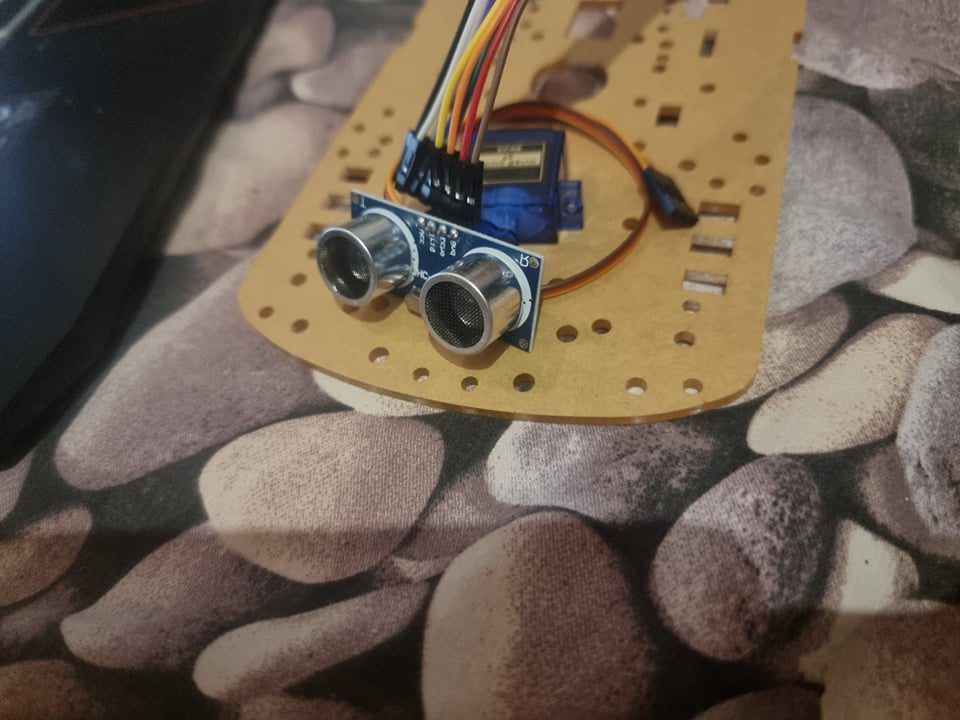SENSOR: (314, 189, 545, 360)
